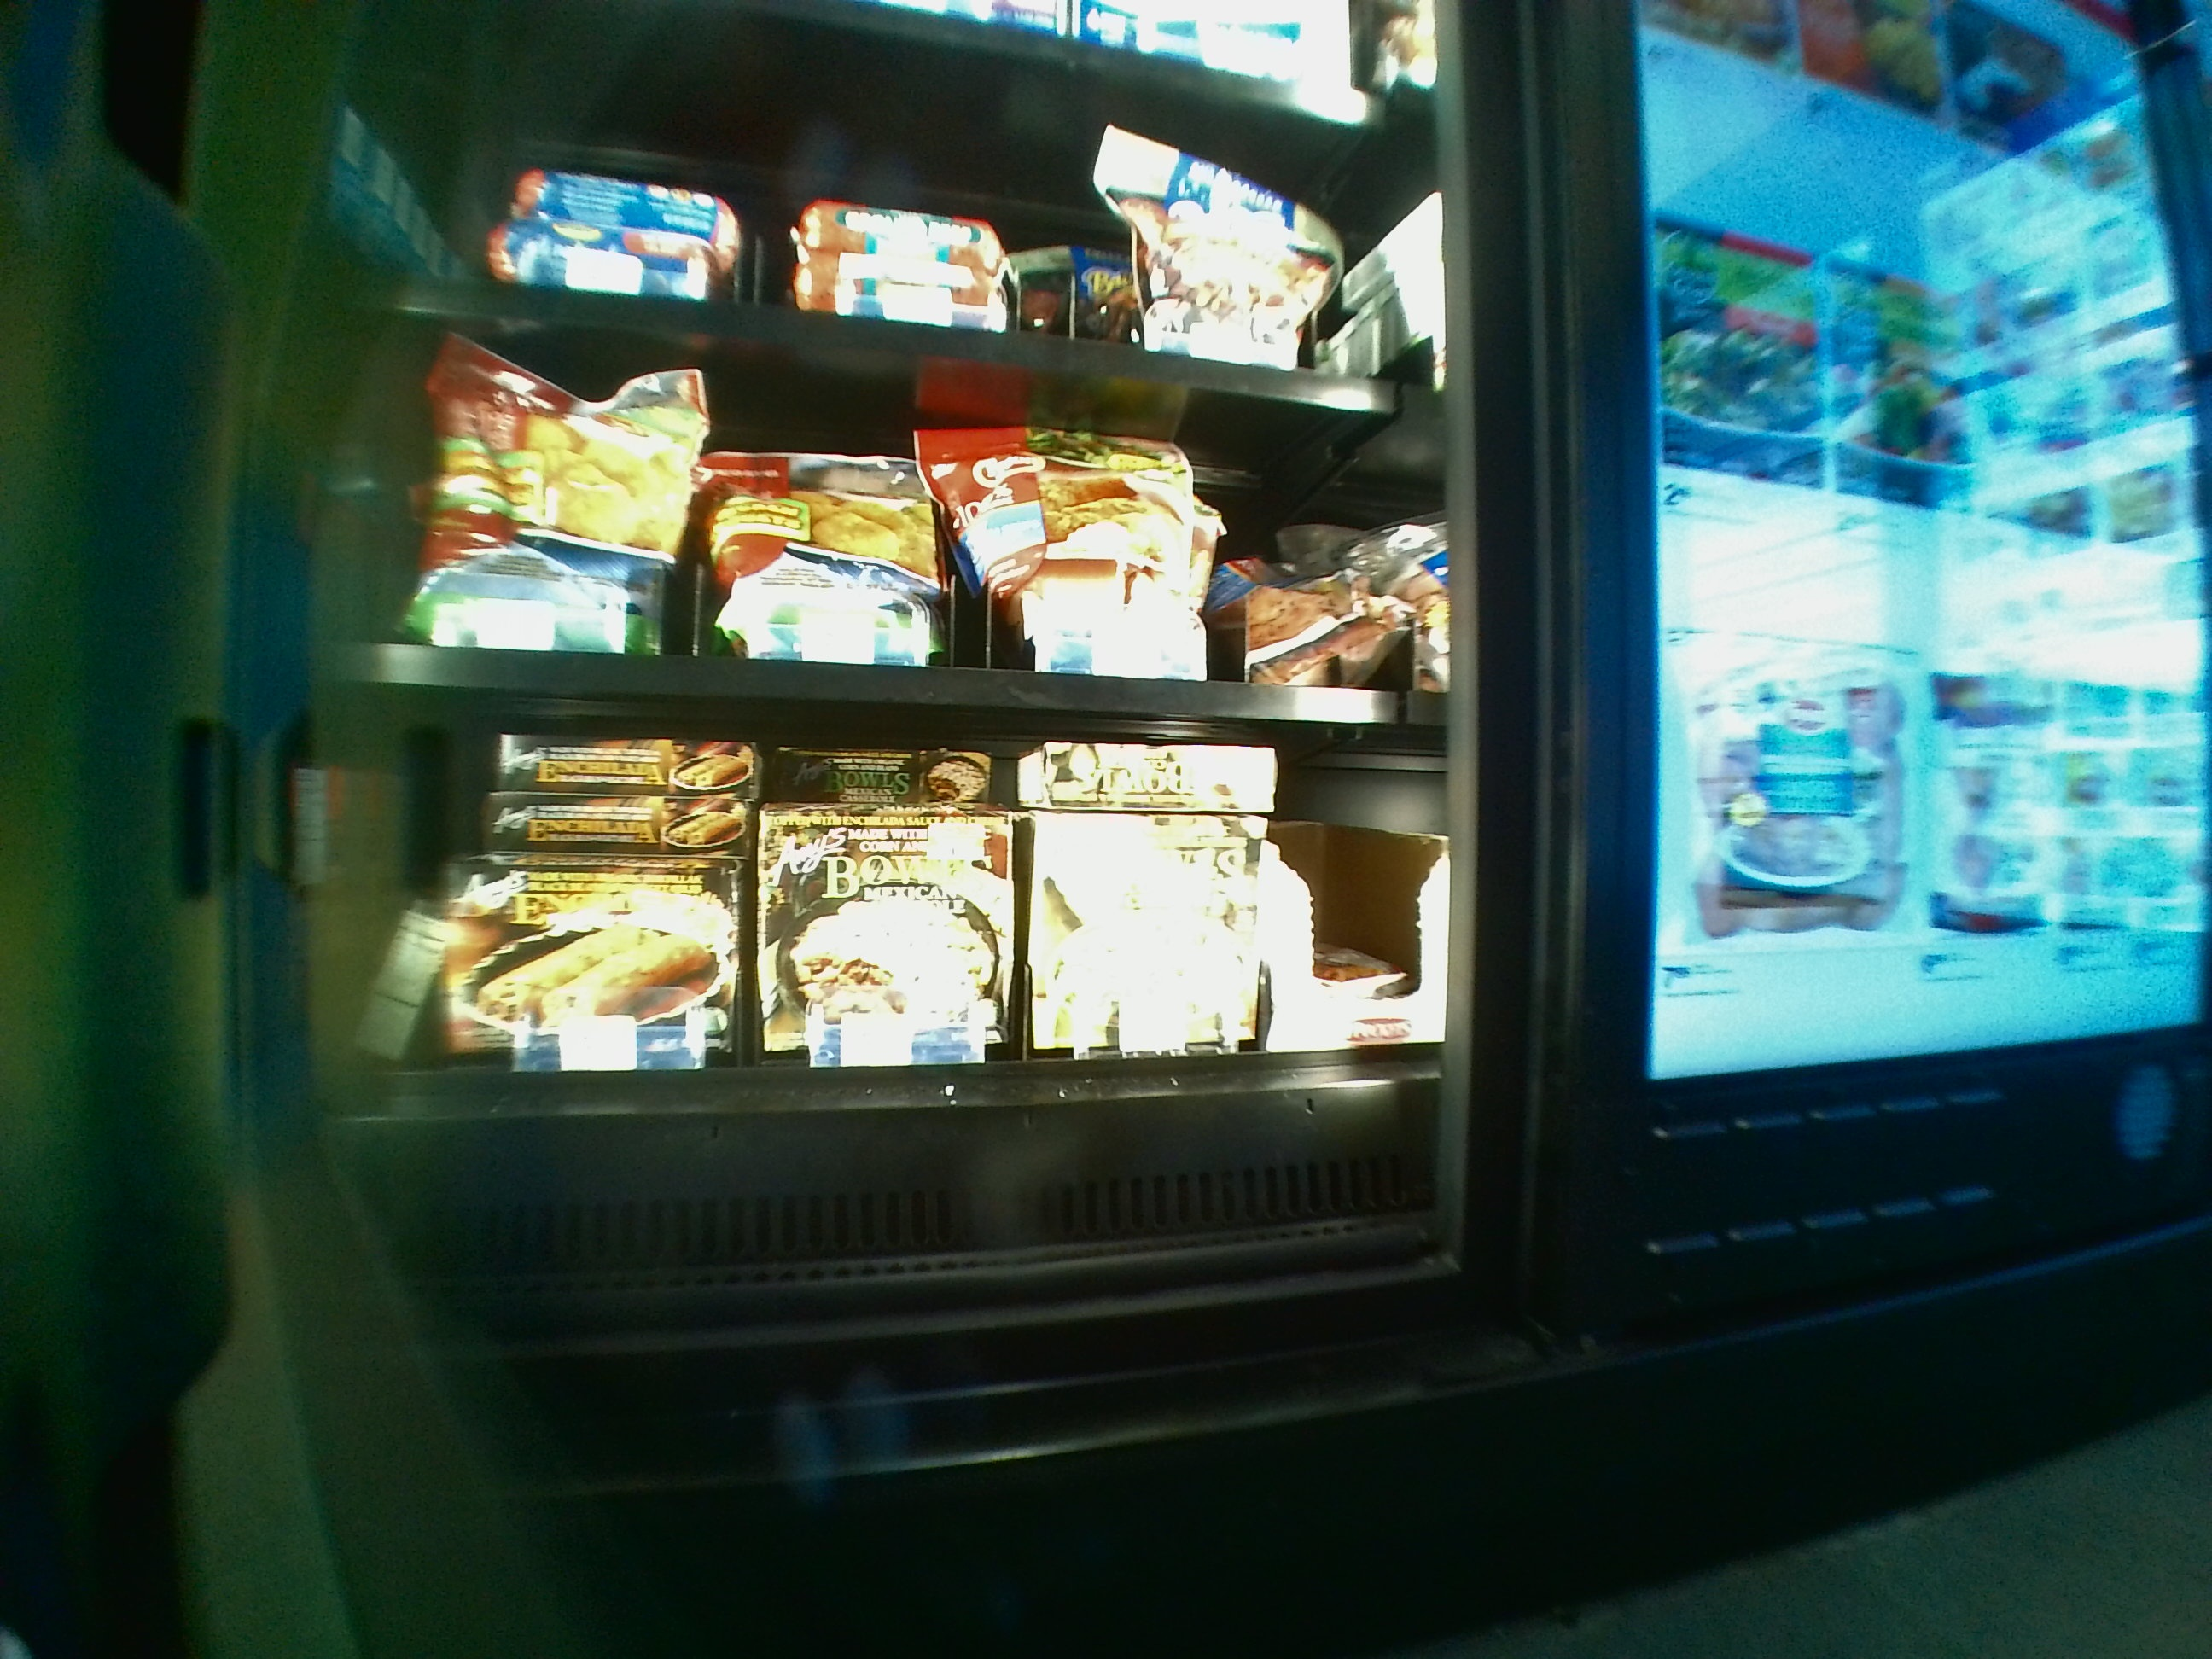shelf: (340, 723, 1444, 1260)
